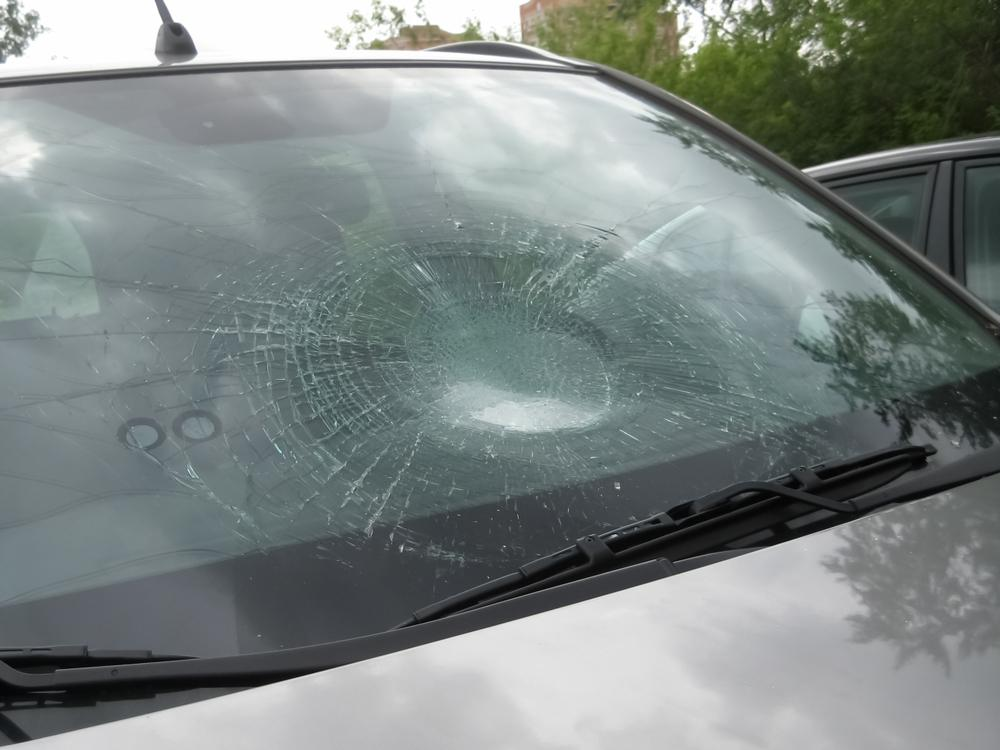glass shatter: (0, 64, 1000, 658)
